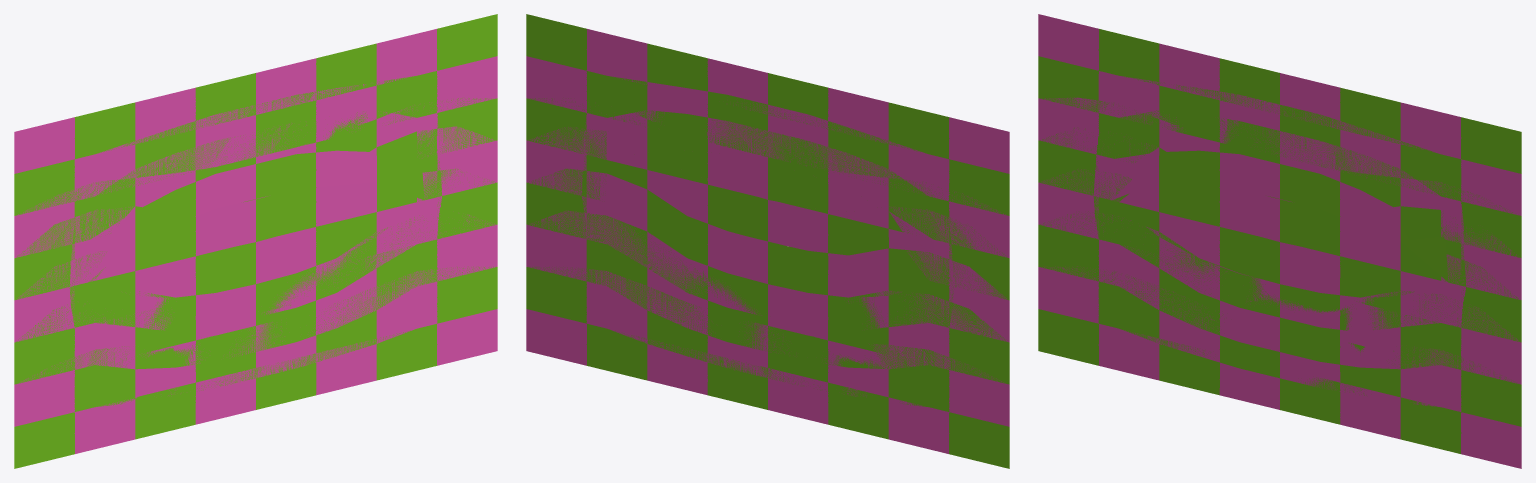
File: mouth_area.fbx
3 renders of one model, left to right at view 1: azimuth 30°, elevation 25°; view 2: azimuth 150°, elevation 25°; view 3: azimuth 330°, elevation 25°, orthographic.
Parts seen in each view (by area): view 1: mouth_1, mouth_0, mouth; view 2: mouth_1, mouth_0, mouth; view 3: mouth_1, mouth_0, mouth.
Part boxes in pixels (box(x1,y1,x2,y2)): mouth_1: box(14, 14, 497, 468); mouth_0: box(14, 34, 497, 448); mouth: box(14, 76, 497, 405); mouth_1: box(526, 14, 1009, 468); mouth_0: box(526, 34, 1009, 448); mouth: box(526, 76, 1009, 404); mouth_1: box(1038, 14, 1521, 468); mouth_0: box(1038, 44, 1521, 438); mouth: box(1038, 77, 1521, 405).
Size of the model in its own units: 3 by 2 by 0.000746.
Materials: 1 (1 with a texture image).
